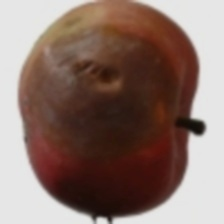apple: (9, 54, 191, 195)
